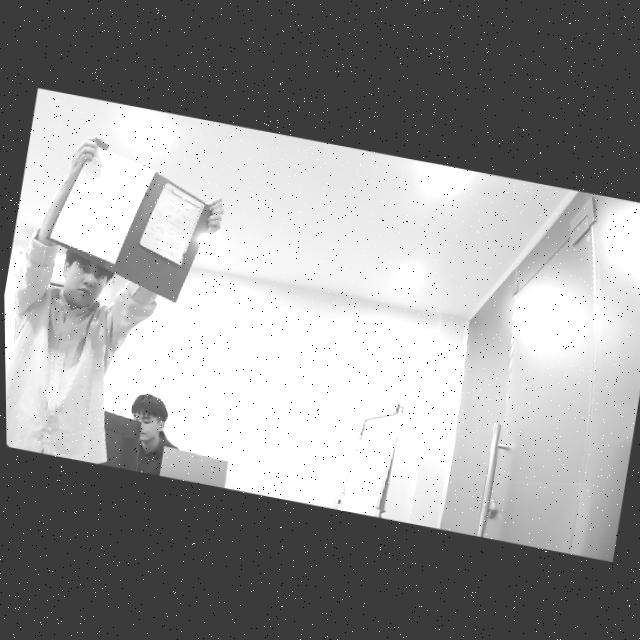document: (50, 145, 155, 264), (138, 182, 204, 265)
face: (58, 251, 117, 318), (122, 387, 177, 450)
